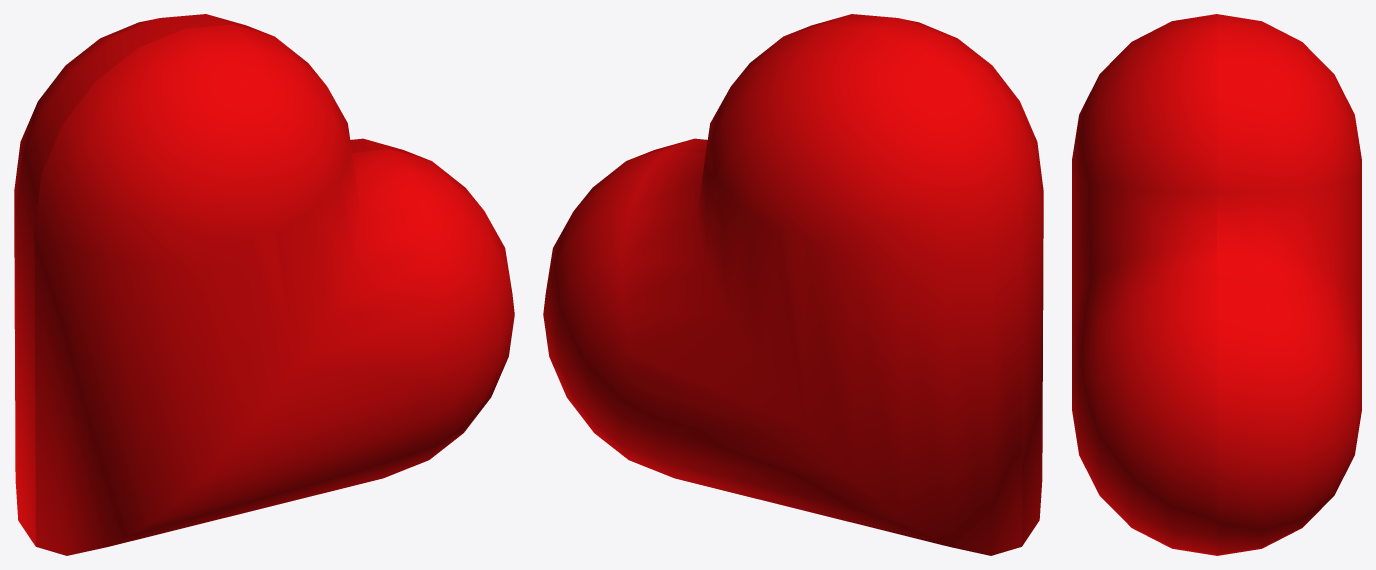
Rendered from Heart.fbx.
The picture shows the model from 3 angles, left to right: view 1: azimuth 30°, elevation 25°; view 2: azimuth 150°, elevation 25°; view 3: azimuth 270°, elevation 25°; orthographic projection. The views are drawn at different scales.
Parts seen in each view (by area): view 1: Heart; view 2: Heart; view 3: Heart.
Boxes of the visible parts, x1,y1,x2,y2 form: Heart: [14, 14, 514, 555]; Heart: [543, 14, 1043, 555]; Heart: [1072, 14, 1361, 555].
Size of the model in its own units: 91.12 by 91.14 by 53.9.
